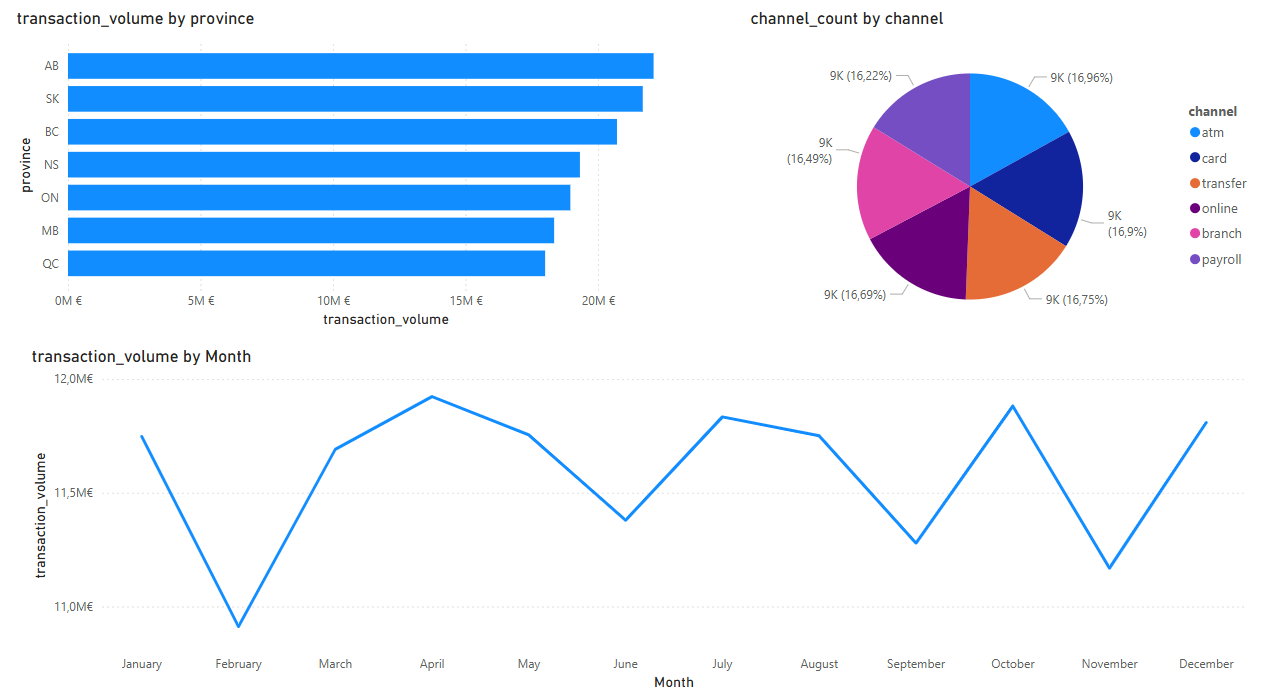

What the dashboard file says about the page in this screenshot:
{"tool":"powerbi","page":{"name":"Transaction Behaviour","canvas":[1280,720],"ordinal":2},"visuals":[{"type":"lineChart","fields":{"Category":["transactions.transaction_date.Variation.Date Hierarchy.Month"],"Y":["transactions.transaction_volume"]},"box":[31,349,1223,349],"z":0},{"type":"barChart","fields":{"Y":["transactions.transaction_volume"],"Category":["customers.province"]},"box":[16,11,714,324],"z":1000},{"type":"pieChart","fields":{"Category":["transactions.channel"],"Y":["transactions.channel_count"]},"box":[750,11,516,338],"z":2000}]}

Visuals, with their boxes in screenshot pixels (x1, y1, x2, y2), scaled from the page's 1280x720 canvas onto the 1267x694 screenshot:
lineChart - transactions.transaction_date.Variation.Date Hierarchy.Month x transactions.transaction_volume: x1=31, y1=336, x2=1241, y2=673
barChart - transactions.transaction_volume x customers.province: x1=16, y1=11, x2=723, y2=323
pieChart - transactions.channel x transactions.channel_count: x1=742, y1=11, x2=1253, y2=336
